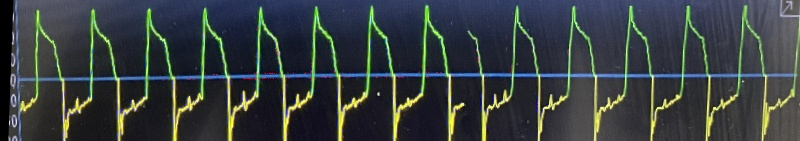hydrop_peepi: (20, 1, 466, 141), (491, 1, 788, 141)
